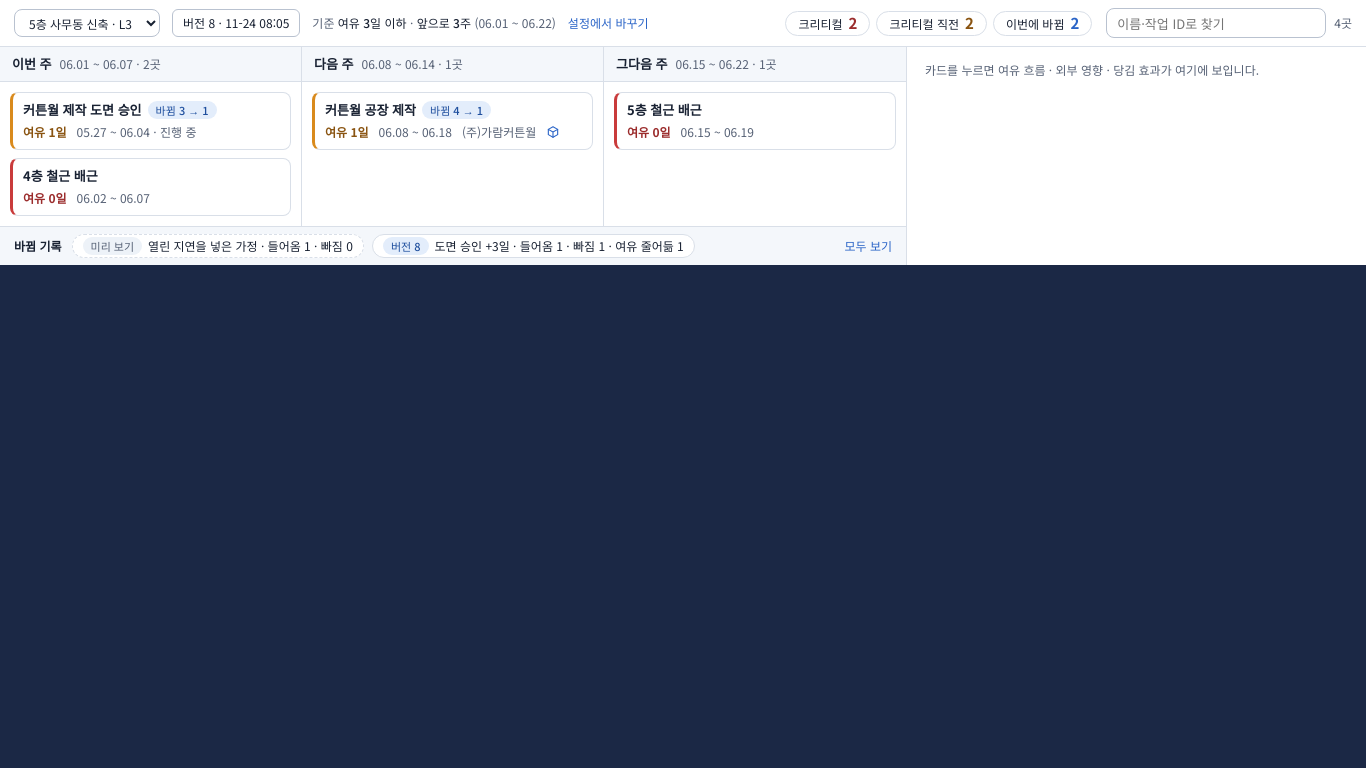
a card opens the detail: float by version, risk lines (none visible, skipped folded) and quotes only when pressed
What coordinates should you click on to do the following:
click the button "커튼월 공장 제작 바뀜 4 → 1 여유 1일 06.08 ~ 06.18 (주)가람커튼월"
I would click on:
 (452, 121)
Its box is x1=312 y1=92 x2=593 y2=150.
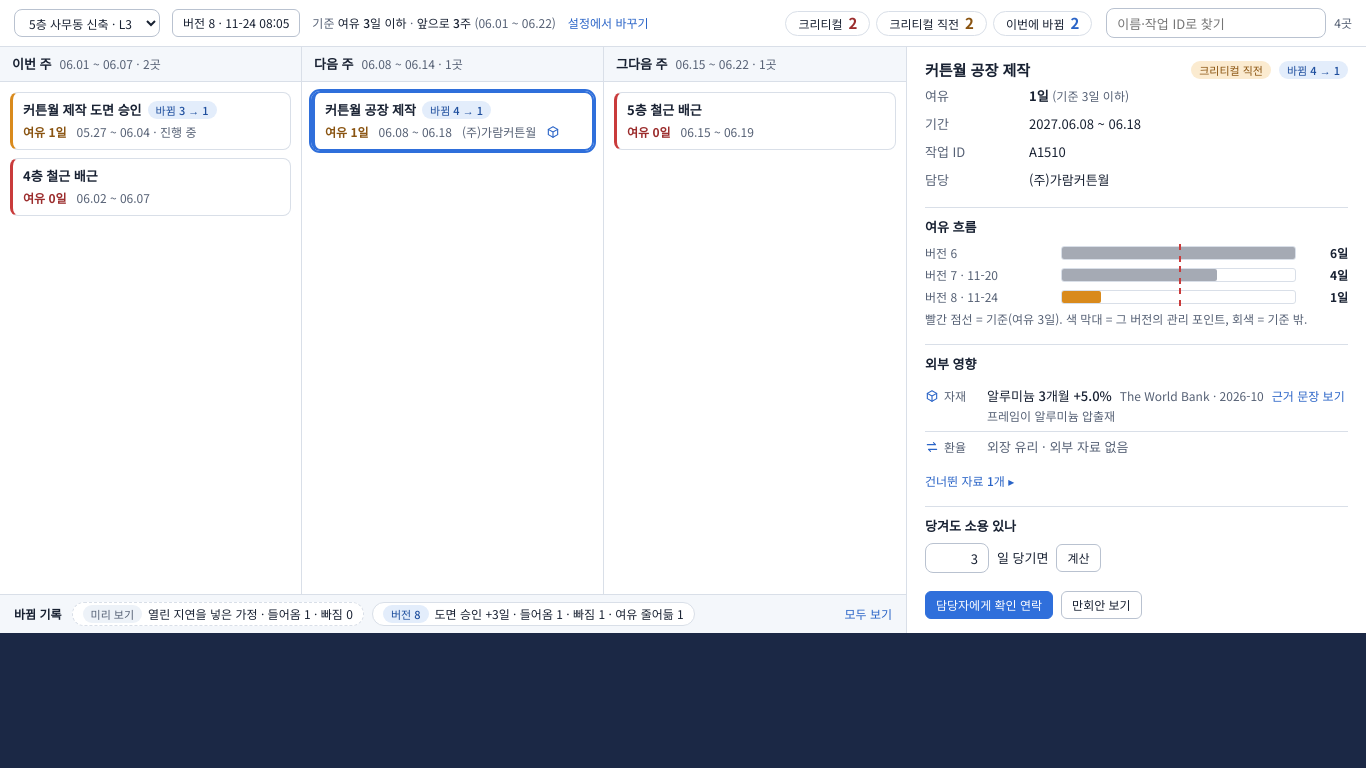
Now the heading "커튼월 공장 제작" is shown, box x1=925 y1=59 x2=1030 y2=80
Now the element named "자세히" shows "2027.06.08 ~ 06.18", box x1=1029 y1=114 x2=1141 y2=133
Now the text "외장 유리 · 외부 자료 없음" is shown, box x1=987 y1=438 x2=1128 y2=456
What coordinates should you click on to do the following:
click the button "건너뛴 자료 1개 ▸"
I would click on:
 (970, 481)
Its box is x1=925 y1=472 x2=1014 y2=490.
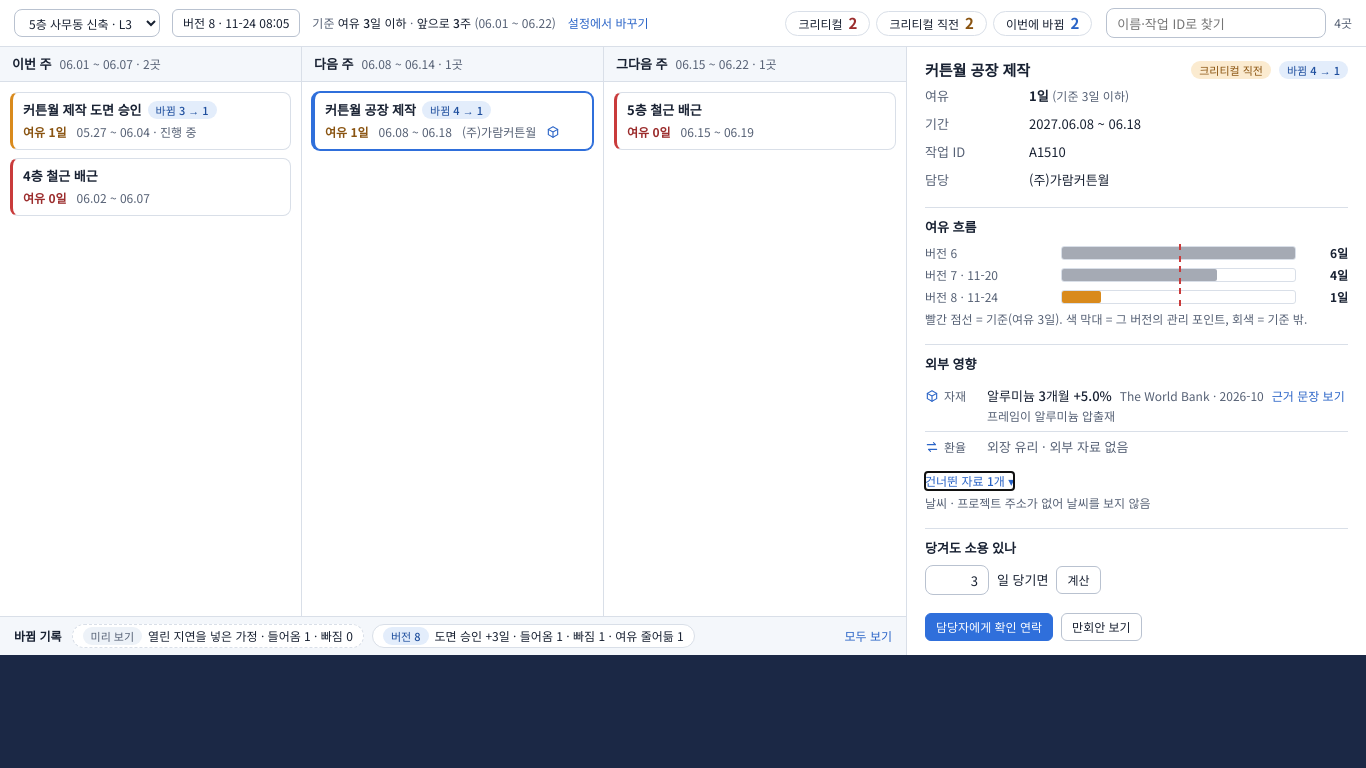
Now the list item "날씨 · 프로젝트 주소가 없어 날씨를 보지 않음" is shown, box x1=925 y1=494 x2=1151 y2=512
What coordinates should you click on to do the following:
click the button "근거 문장 보기"
I would click on:
 (1308, 396)
Its box is x1=1272 y1=387 x2=1345 y2=405.
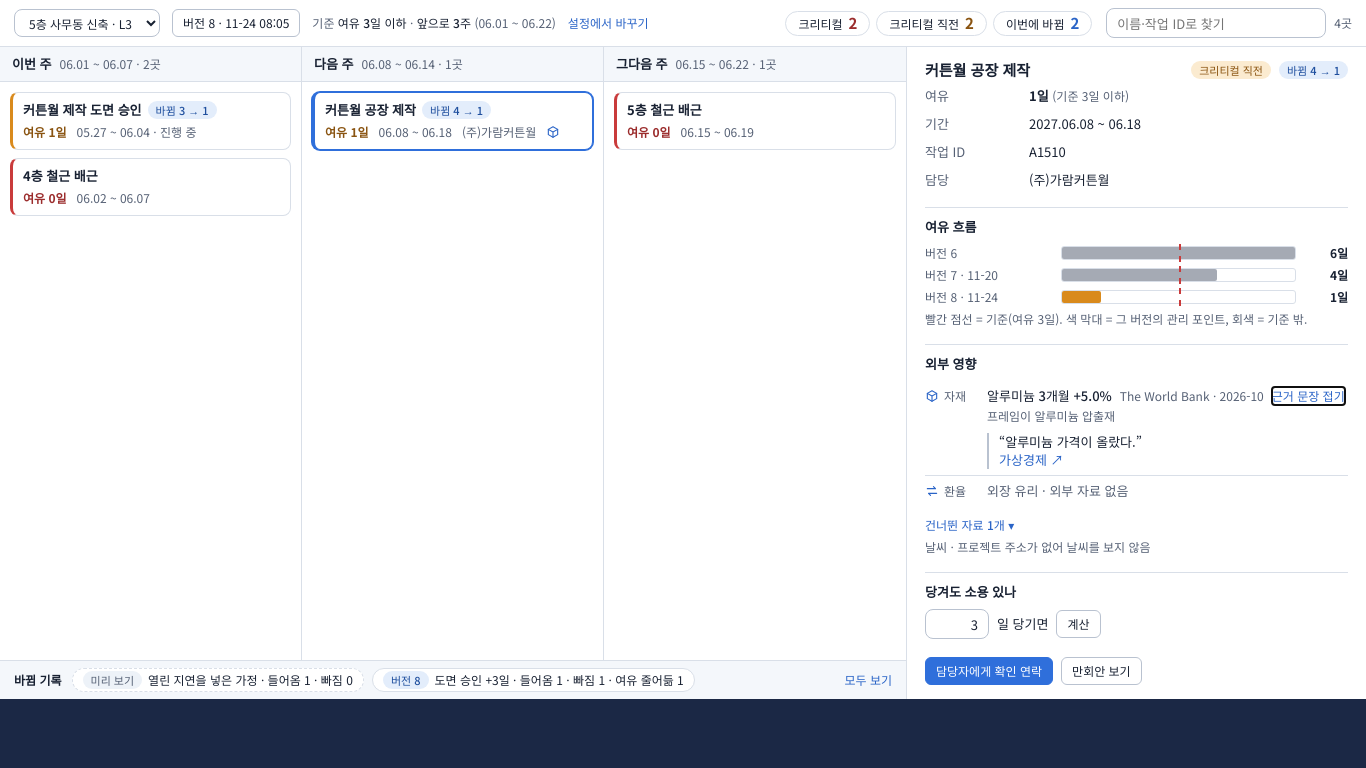
Now the text "“알루미늄 가격이 올랐다.”" is shown, box x1=999 y1=432 x2=1142 y2=451
